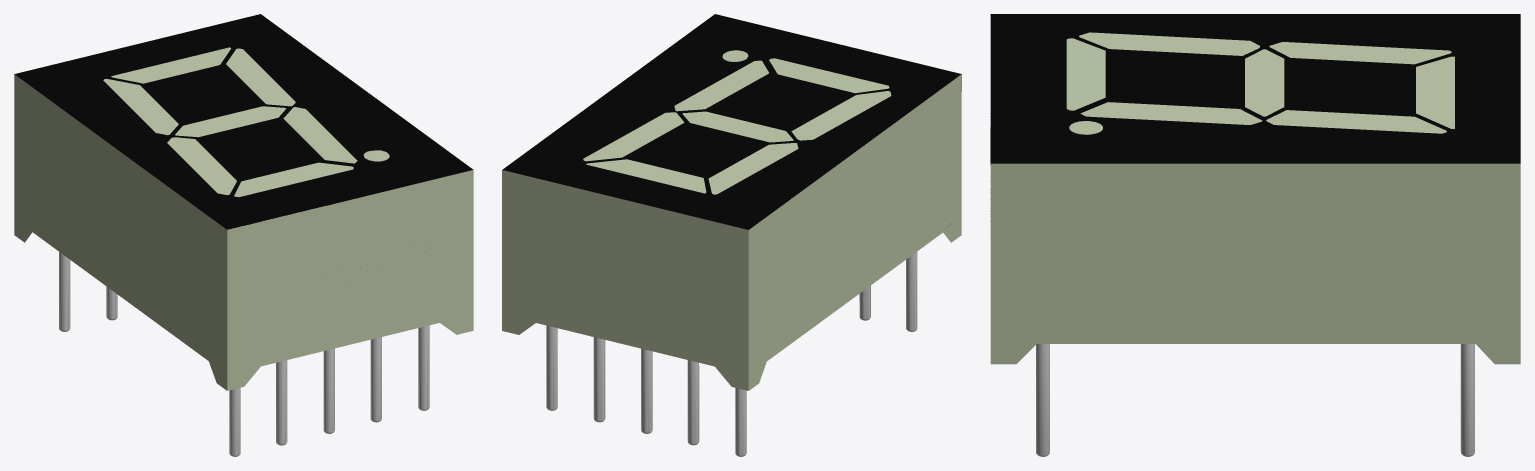
Rendered from Display7Segmentos.fbx.
3 renders of one model, left to right at view 1: azimuth 30°, elevation 25°; view 2: azimuth 150°, elevation 25°; view 3: azimuth 270°, elevation 25°, orthographic. The views are drawn at different scales.
Visible parts, largest first — view 1: Display 7 Segmentos, Display 7 Segmentos.012, Display 7 Segmentos.013, Display 7 Segmentos.015, Display 7 Segmentos.017, Display 7 Segmentos.011, Display 7 Segmentos.018, Display 7 Segmentos.016, Display 7 Segmentos.008, Display 7 Segmentos.019, Display 7 Segmentos.009, Display 7 Segmentos.007 (+2 smaller); view 2: Display 7 Segmentos, Display 7 Segmentos.012, Display 7 Segmentos.013, Display 7 Segmentos.015, Display 7 Segmentos.011, Display 7 Segmentos.017, Display 7 Segmentos.018, Display 7 Segmentos.016, Display 7 Segmentos.001, Display 7 Segmentos.003, Display 7 Segmentos.010, Display 7 Segmentos.002 (+2 smaller); view 3: Display 7 Segmentos, Display 7 Segmentos.012, Display 7 Segmentos.013, Display 7 Segmentos.015, Display 7 Segmentos.017, Display 7 Segmentos.011, Display 7 Segmentos.018, Display 7 Segmentos.016, Display 7 Segmentos.010, Display 7 Segmentos.009.
Boxes of the visible parts, x1,y1,x2,y2 form: Display 7 Segmentos: (14, 14, 473, 390); Display 7 Segmentos.012: (167, 137, 236, 194); Display 7 Segmentos.013: (283, 107, 357, 163); Display 7 Segmentos.015: (226, 48, 295, 106); Display 7 Segmentos.017: (103, 79, 178, 135); Display 7 Segmentos.011: (234, 162, 353, 197); Display 7 Segmentos.018: (111, 47, 230, 83); Display 7 Segmentos.016: (175, 106, 286, 137); Display 7 Segmentos.008: (370, 337, 381, 422); Display 7 Segmentos.019: (276, 360, 287, 445); Display 7 Segmentos.009: (418, 325, 429, 410); Display 7 Segmentos.007: (323, 348, 334, 433); Display 7 Segmentos: (502, 14, 961, 390); Display 7 Segmentos.012: (791, 91, 891, 140); Display 7 Segmentos.013: (674, 60, 768, 111); Display 7 Segmentos.015: (583, 112, 684, 161); Display 7 Segmentos.011: (769, 58, 889, 93); Display 7 Segmentos.017: (708, 143, 798, 194); Display 7 Segmentos.018: (586, 159, 706, 193); Display 7 Segmentos.016: (682, 111, 793, 142); Display 7 Segmentos.001: (593, 337, 605, 422); Display 7 Segmentos.003: (687, 360, 699, 445); Display 7 Segmentos.010: (546, 325, 557, 410); Display 7 Segmentos.002: (641, 348, 652, 433); Display 7 Segmentos: (990, 14, 1520, 364); Display 7 Segmentos.012: (1079, 32, 1259, 55); Display 7 Segmentos.013: (1080, 102, 1262, 124); Display 7 Segmentos.015: (1266, 110, 1446, 133); Display 7 Segmentos.017: (1269, 42, 1451, 64); Display 7 Segmentos.011: (1066, 38, 1105, 110); Display 7 Segmentos.018: (1416, 56, 1454, 128); Display 7 Segmentos.016: (1245, 49, 1284, 116); Display 7 Segmentos.010: (1460, 344, 1474, 456); Display 7 Segmentos.009: (1036, 344, 1049, 456).
Bounding box in the file's own units: 1.27 × 1.22 × 1.9.
